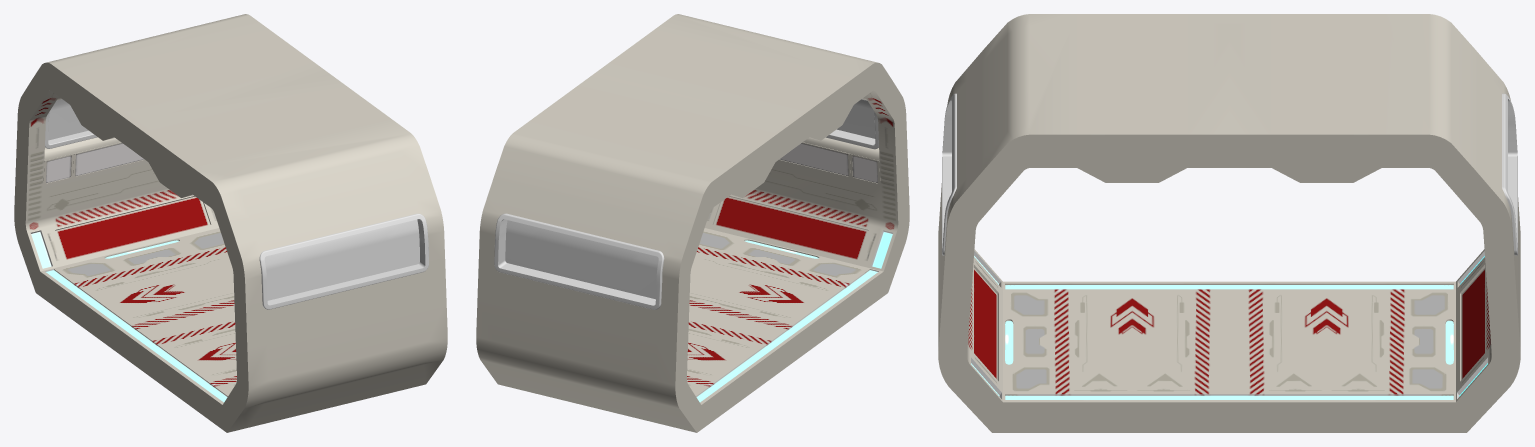
Rendered from SM_CoridorWallLargeWindow.fbx.
3 views of the same model, side by side, from view 1: azimuth 30°, elevation 25°; view 2: azimuth 150°, elevation 25°; view 3: azimuth 270°, elevation 25° (orthographic). The views are drawn at different scales.
Parts seen in each view (by area): view 1: SM_CoridorWallLargeWindow_LOD0; view 2: SM_CoridorWallLargeWindow_LOD0; view 3: SM_CoridorWallLargeWindow_LOD0.
Part boxes in pixels (left/top/right/bottom): SM_CoridorWallLargeWindow_LOD0: left=14, top=14, right=447, bottom=432; SM_CoridorWallLargeWindow_LOD0: left=476, top=14, right=909, bottom=432; SM_CoridorWallLargeWindow_LOD0: left=938, top=14, right=1520, bottom=432.
Bounding box in the file's own units: 358 × 413 × 731.
3 materials, 1 textured.
